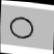no answer: (8, 14, 36, 42)
